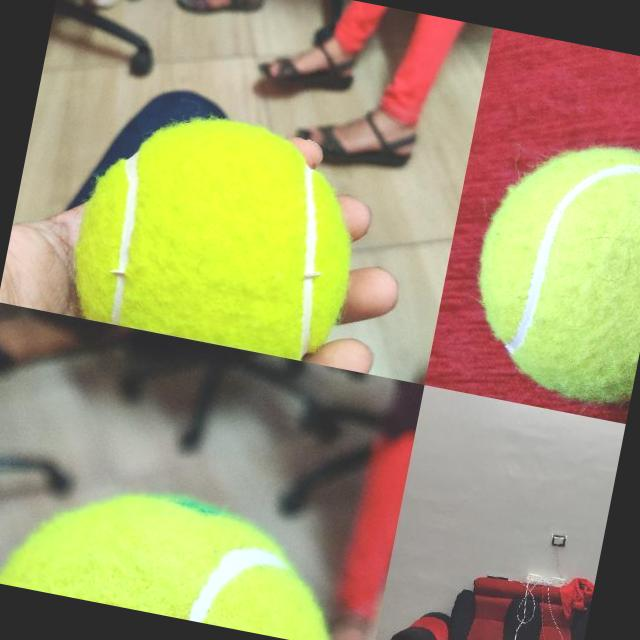tennis-ball: (65, 97, 374, 366), (0, 464, 360, 640), (455, 122, 640, 409)
